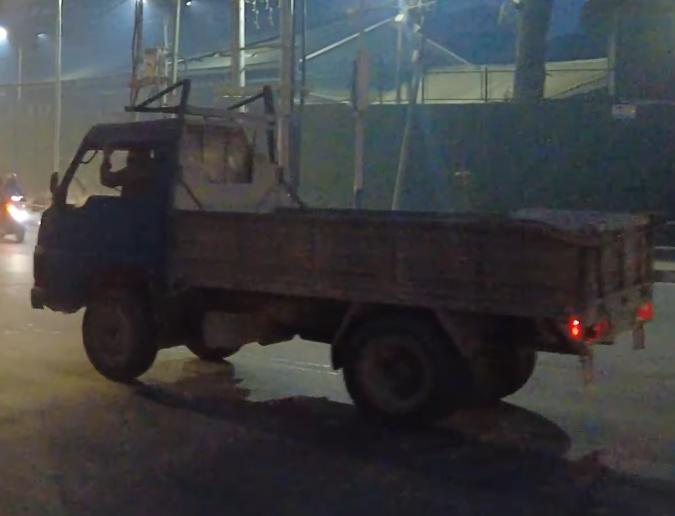mini_truck: (20, 74, 662, 430)
